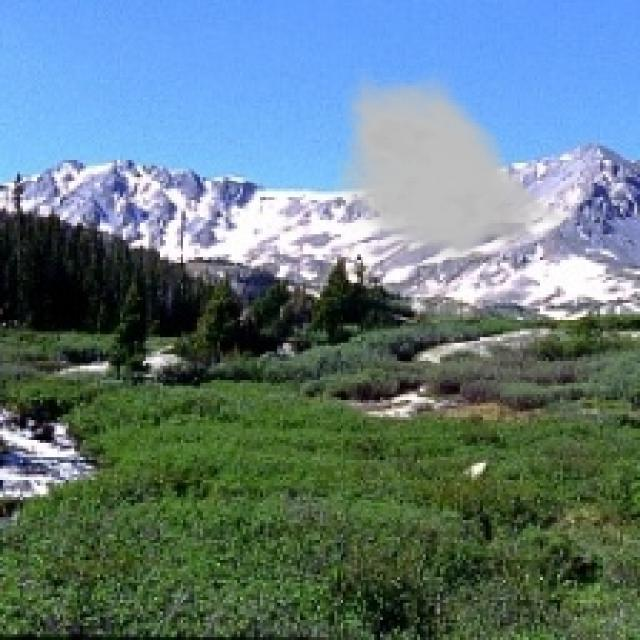Smoke: (331, 65, 586, 268)
